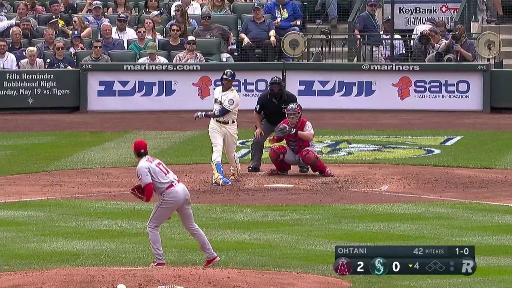pitcher: (132, 139, 220, 269)
